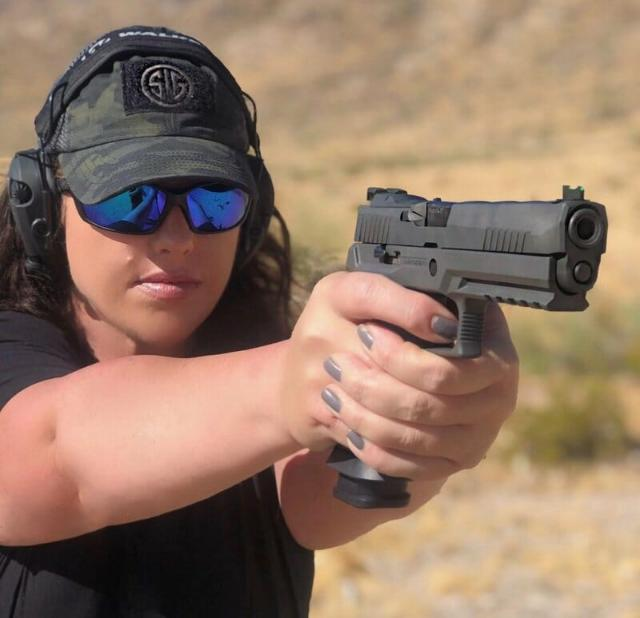handgun: (324, 179, 618, 517)
